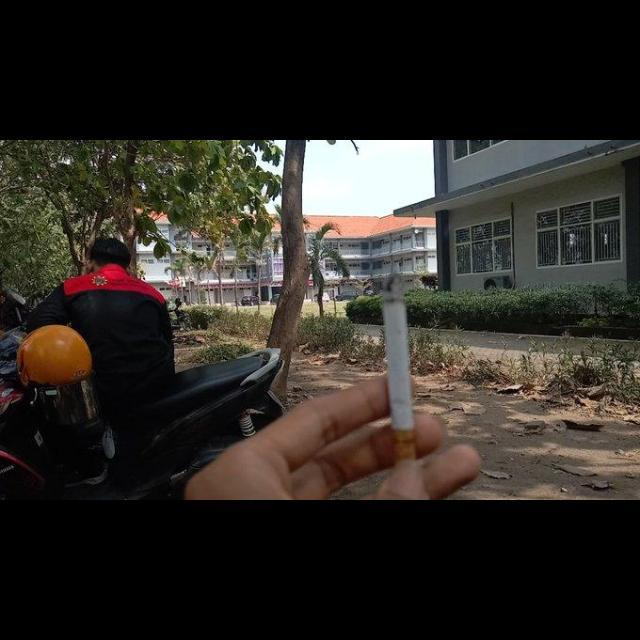rokok: (378, 268, 418, 464)
